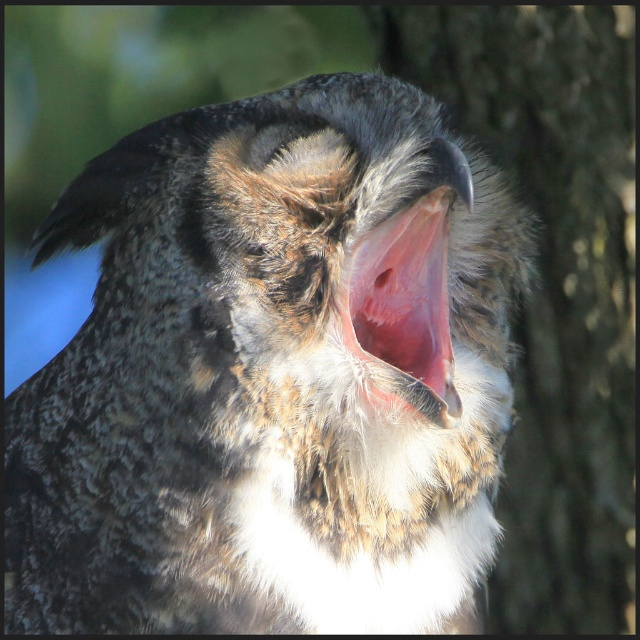Owl: (0, 68, 552, 640)
